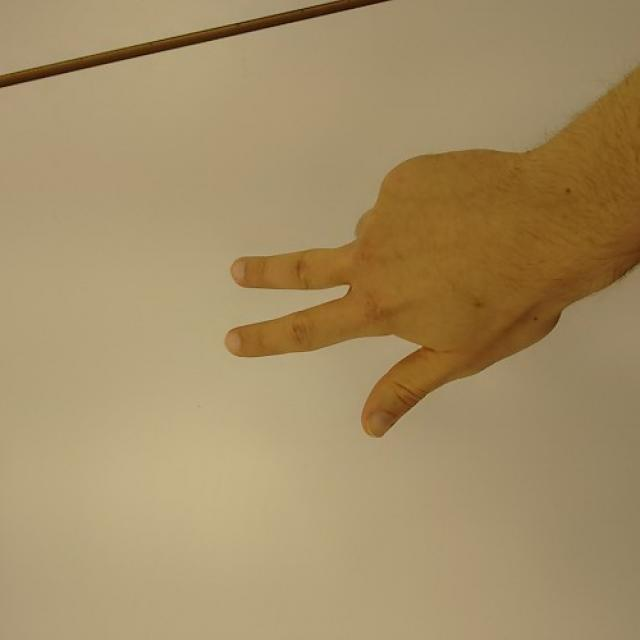scissors: (227, 165, 547, 442)
